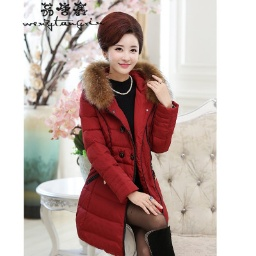face: (92, 14, 149, 78)
